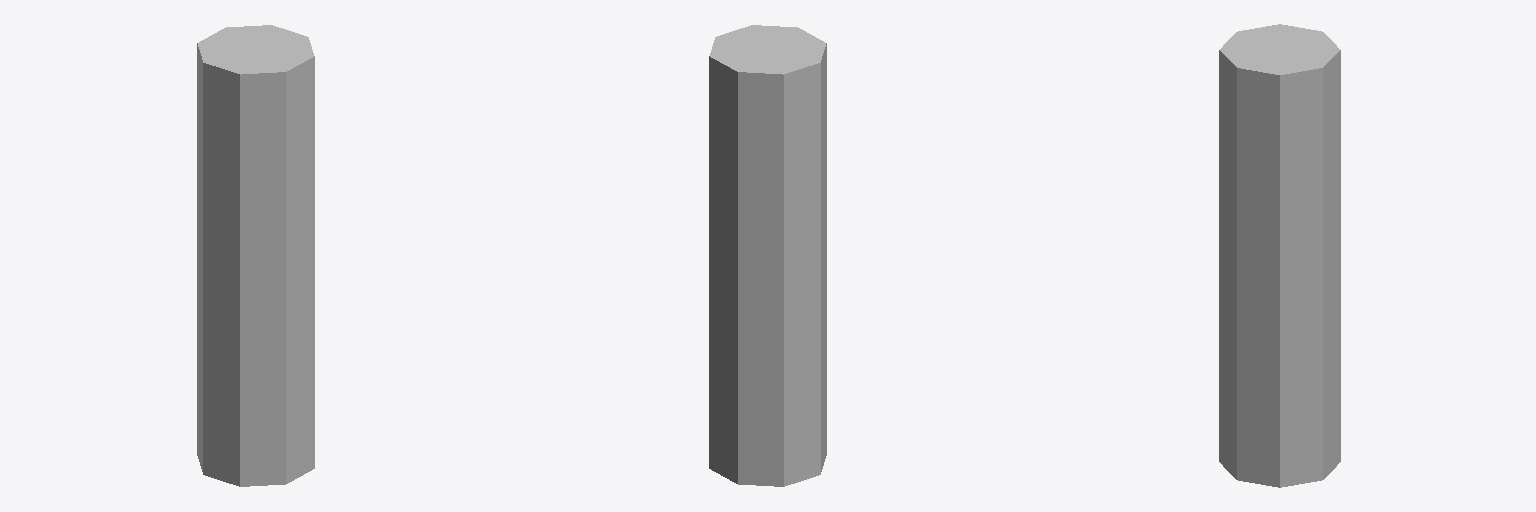
Rendered from Glowstick.obj.
3 renders of one model, left to right at view 1: azimuth 30°, elevation 25°; view 2: azimuth 150°, elevation 25°; view 3: azimuth 270°, elevation 25°, orthographic.
Visible parts, largest first — view 1: Cylinder; view 2: Cylinder; view 3: Cylinder.
Part boxes in pixels (left/top/right/bottom): Cylinder: left=197, top=25, right=314, bottom=486; Cylinder: left=709, top=25, right=826, bottom=486; Cylinder: left=1219, top=24, right=1340, bottom=487.
Size of the model in its own units: 0.04 by 0.15 by 0.04.